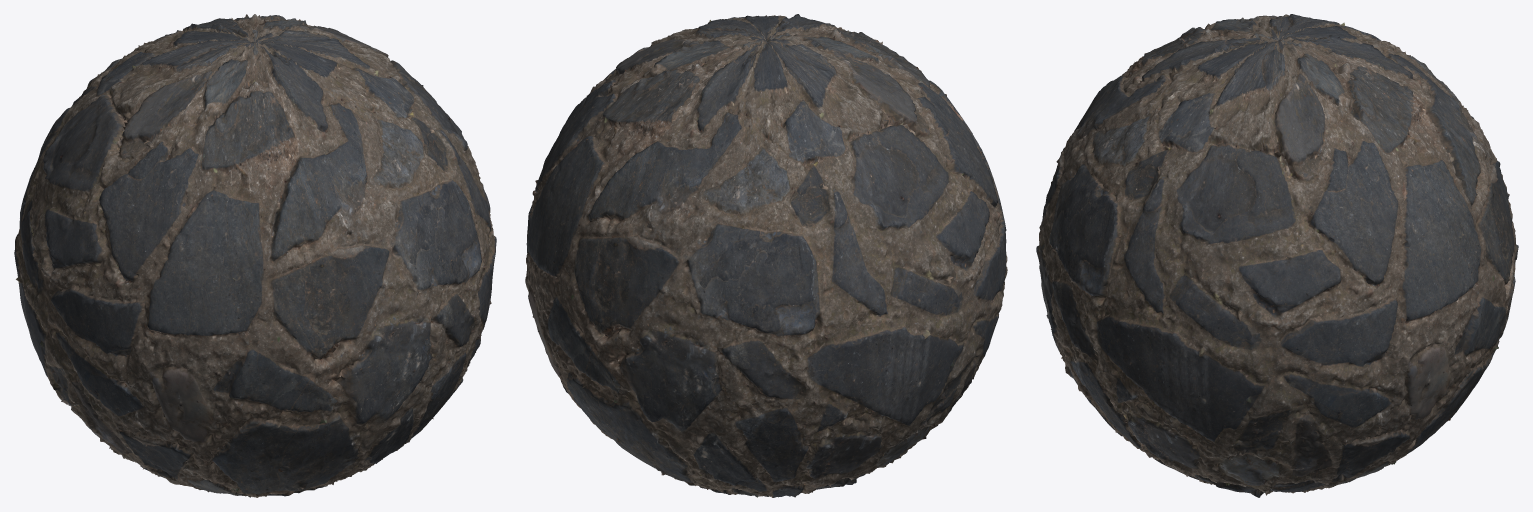
The model's file is slate_driveway_4k.gltf.
3 renders of one model, left to right at view 1: azimuth 30°, elevation 25°; view 2: azimuth 150°, elevation 25°; view 3: azimuth 270°, elevation 25°, orthographic.
Visible parts, largest first — view 1: sphere_gltf; view 2: sphere_gltf; view 3: sphere_gltf.
Part boxes in pixels (x1=…): sphere_gltf: x1=14, y1=14, x2=496, y2=497; sphere_gltf: x1=525, y1=14, x2=1007, y2=497; sphere_gltf: x1=1036, y1=14, x2=1518, y2=497.
Size of the model in its own units: 2.13 by 2.13 by 2.14.
1 material, 1 textured.
